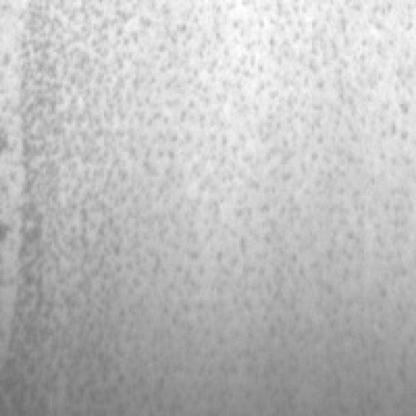pitted_surface: (12, 0, 414, 414)
